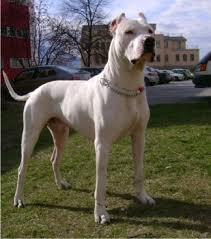dog: (2, 10, 174, 227)
